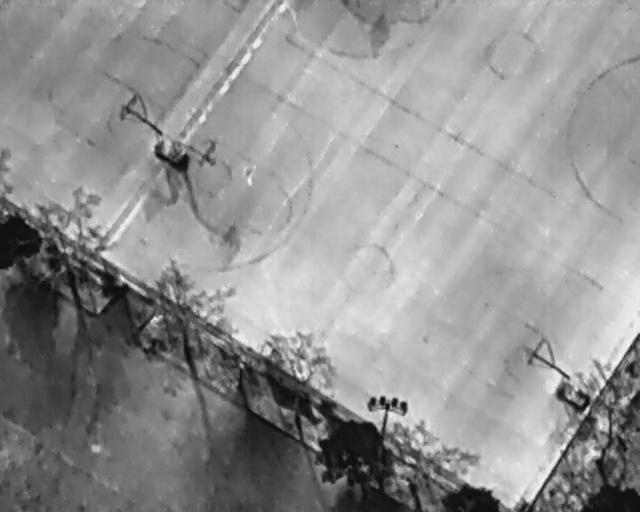Person: (243, 165, 256, 188)
